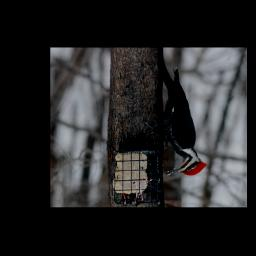Woodpecker: (143, 51, 207, 179)
